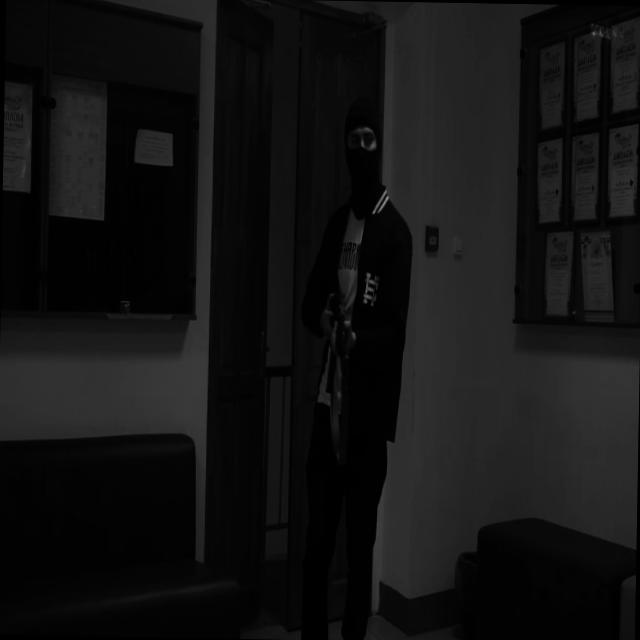gun: (324, 252, 352, 398)
person with a gun: (294, 94, 413, 640)
